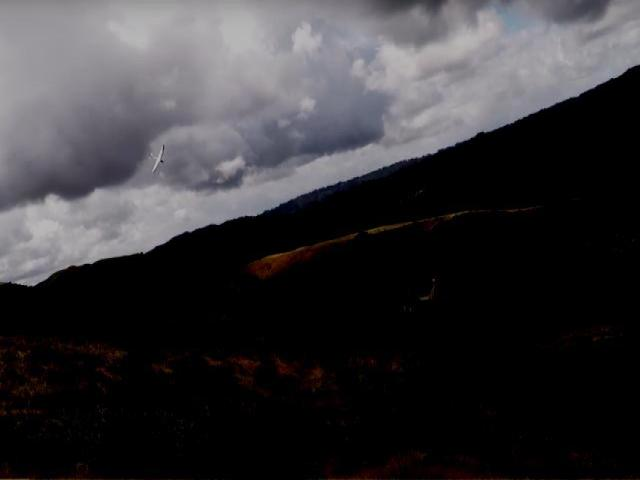iha: (150, 144, 165, 172)
